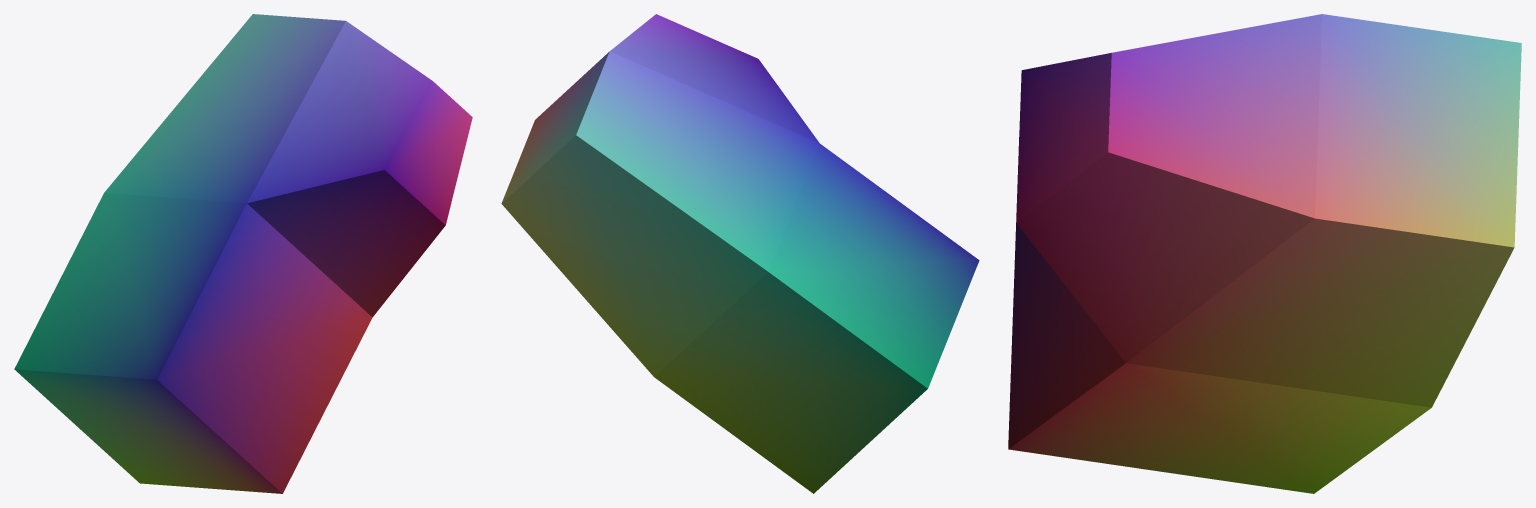
The model's file is testObj.FBX.
The picture shows the model from 3 angles, left to right: view 1: azimuth 30°, elevation 25°; view 2: azimuth 150°, elevation 25°; view 3: azimuth 270°, elevation 25°; orthographic projection. The views are drawn at different scales.
Visible parts, largest first — view 1: Box001; view 2: Box001; view 3: Box001.
Boxes of the visible parts, box(x1,y1,x2,y2) form: Box001: box(14, 14, 472, 493); Box001: box(501, 14, 979, 493); Box001: box(1008, 14, 1521, 493).
Bounding box in the file's own units: 67.6 × 64.47 × 46.98.
